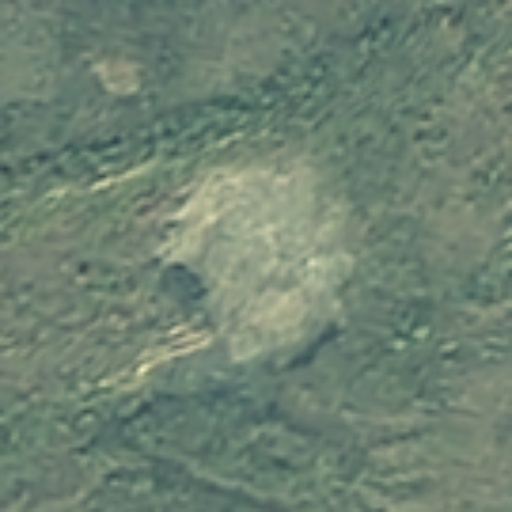landslide: (171, 165, 361, 355)
